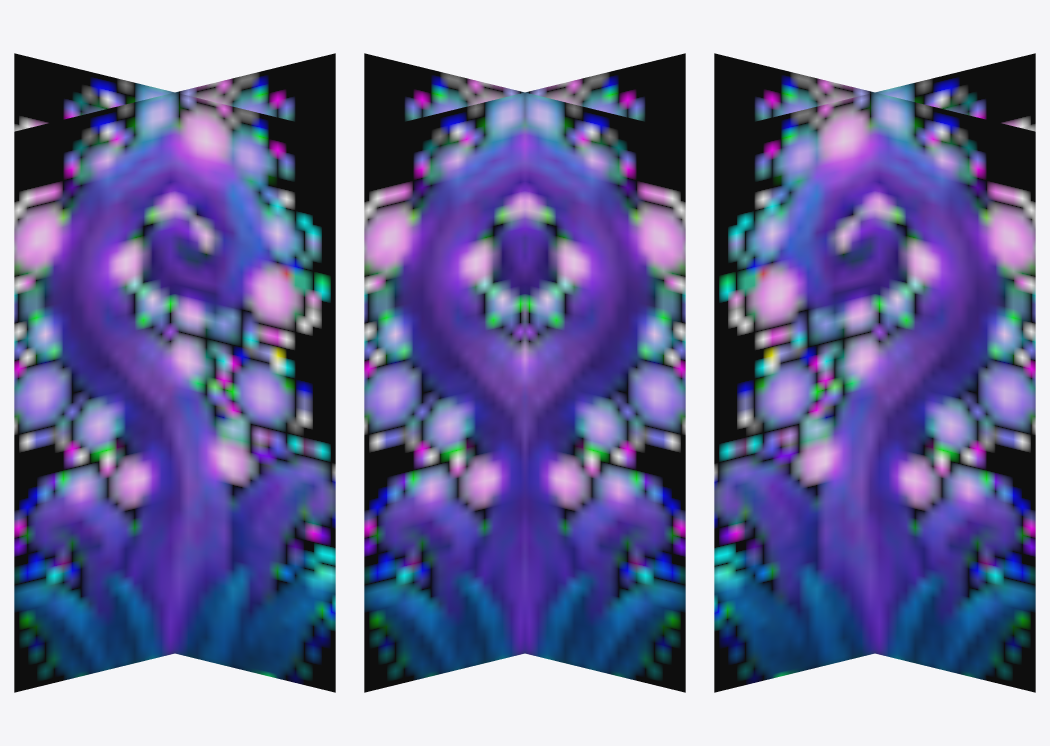
The model's file is h_mycelium_feuille.glb.
3 views of the same model, side by side, from view 1: azimuth 30°, elevation 25°; view 2: azimuth 150°, elevation 25°; view 3: azimuth 270°, elevation 25° (orthographic).
Parts seen in each view (by area): view 1: h_mycelium_feuille; view 2: h_mycelium_feuille; view 3: h_mycelium_feuille.
Part boxes in pixels (x1,y1,x2,y2): h_mycelium_feuille: (14,53,335,692); h_mycelium_feuille: (364,53,685,692); h_mycelium_feuille: (714,53,1035,692).
Bounding box in the file's own units: 0.192 × 0.32 × 0.1663.
1 material, 1 textured.
